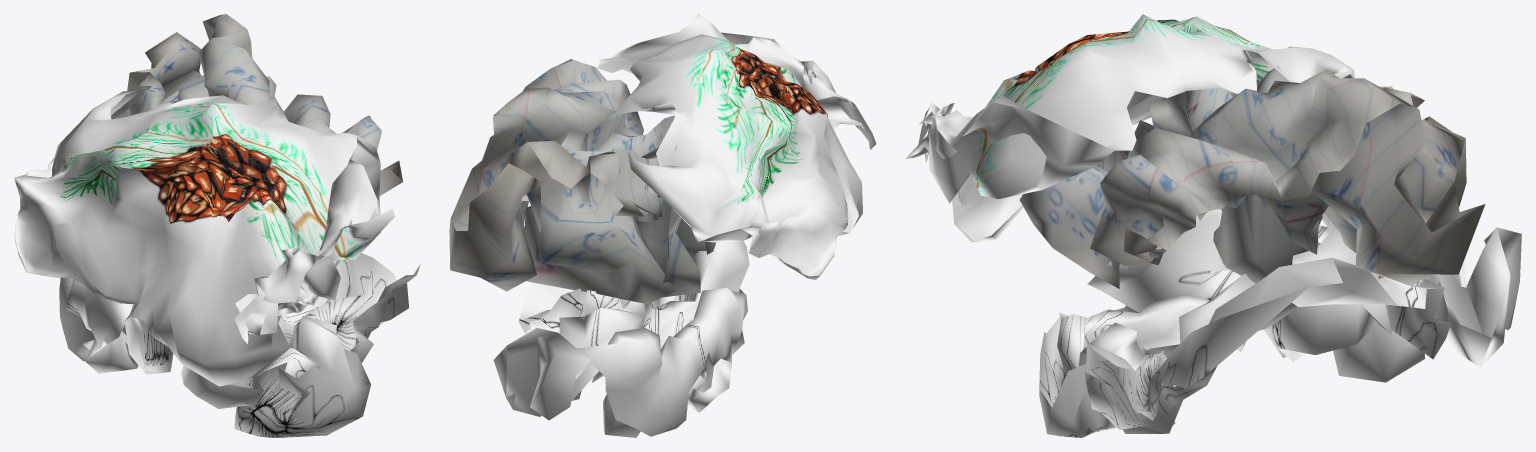
The model's file is CrumblePaper.fbx.
3 renders of one model, left to right at view 1: azimuth 30°, elevation 25°; view 2: azimuth 150°, elevation 25°; view 3: azimuth 270°, elevation 25°, orthographic. The views are drawn at different scales.
Parts seen in each view (by area): view 1: Crumpled Paper 030; view 2: Crumpled Paper 030; view 3: Crumpled Paper 030.
Boxes of the visible parts, <box> form: Crumpled Paper 030: <box>14,14,420,437</box>; Crumpled Paper 030: <box>449,14,876,437</box>; Crumpled Paper 030: <box>905,14,1521,437</box>.
Size of the model in its own units: 5.44 by 5.06 by 7.28.
